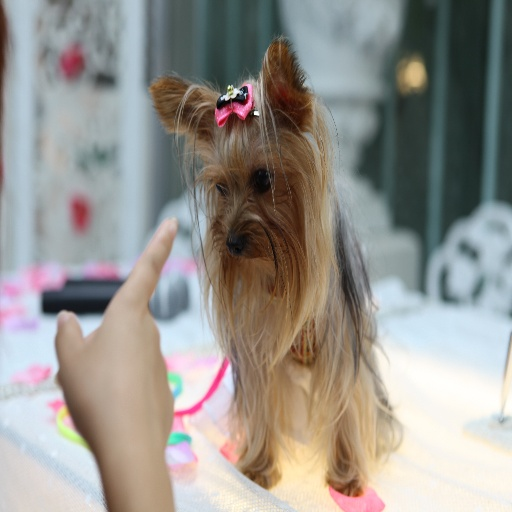hand: (57, 220, 190, 487)
